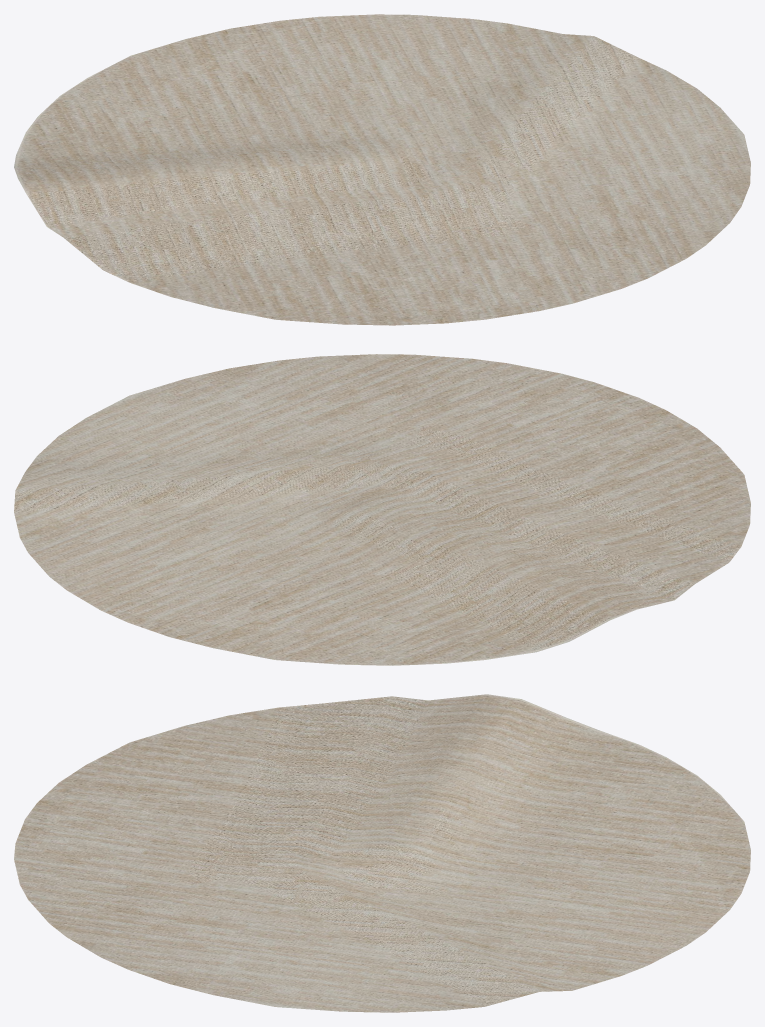
The model's file is Carpet.fbx.
3 views of the same model, one above another, from view 1: azimuth 30°, elevation 25°; view 2: azimuth 150°, elevation 25°; view 3: azimuth 270°, elevation 25° (orthographic).
Parts seen in each view (by area): view 1: Carpet; view 2: Carpet; view 3: Carpet.
Boxes of the visible parts, x1,y1,x2,y2 form: Carpet: [14, 14, 750, 325]; Carpet: [14, 354, 750, 665]; Carpet: [14, 694, 750, 1012].
Size of the model in its own units: 3.28 by 0.0724 by 3.29.
